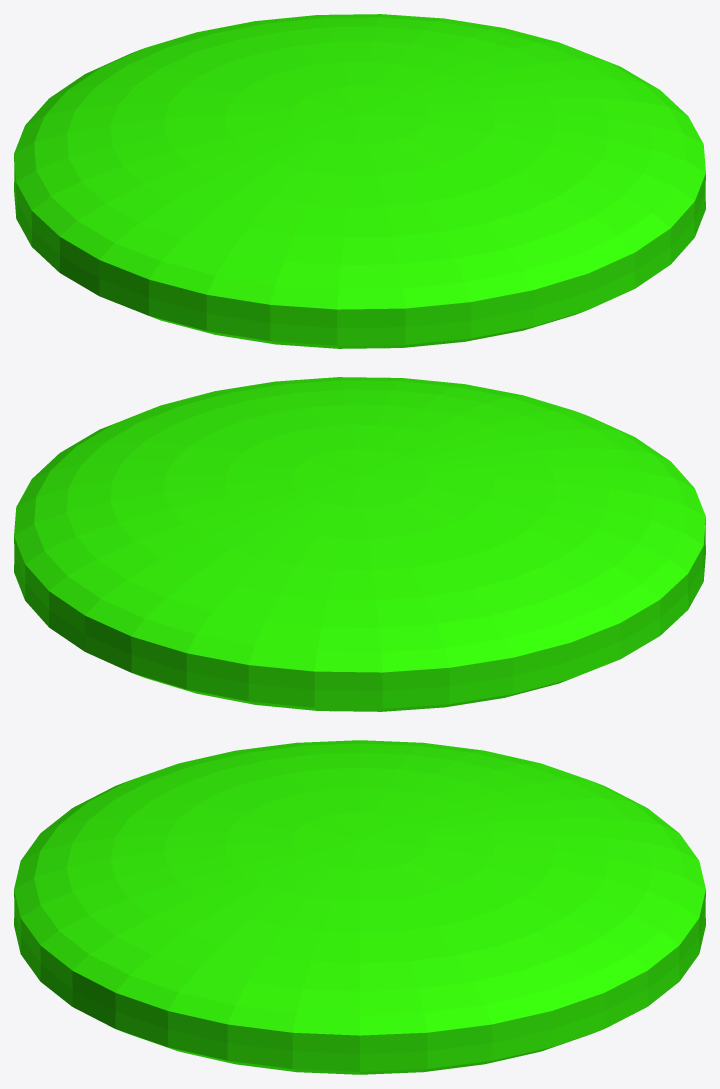
Rendered from greenlenz.fbx.
3 renders of one model, top to bottom at view 1: azimuth 30°, elevation 25°; view 2: azimuth 150°, elevation 25°; view 3: azimuth 270°, elevation 25°, orthographic.
Visible parts, largest first — view 1: Sphere.006; view 2: Sphere.006; view 3: Sphere.006.
Boxes of the visible parts, bbox=[...] form: Sphere.006: bbox=[14, 14, 705, 348]; Sphere.006: bbox=[14, 377, 705, 711]; Sphere.006: bbox=[14, 740, 705, 1074].
Bounding box in the file's own units: 6.57 × 1.41 × 6.57.
